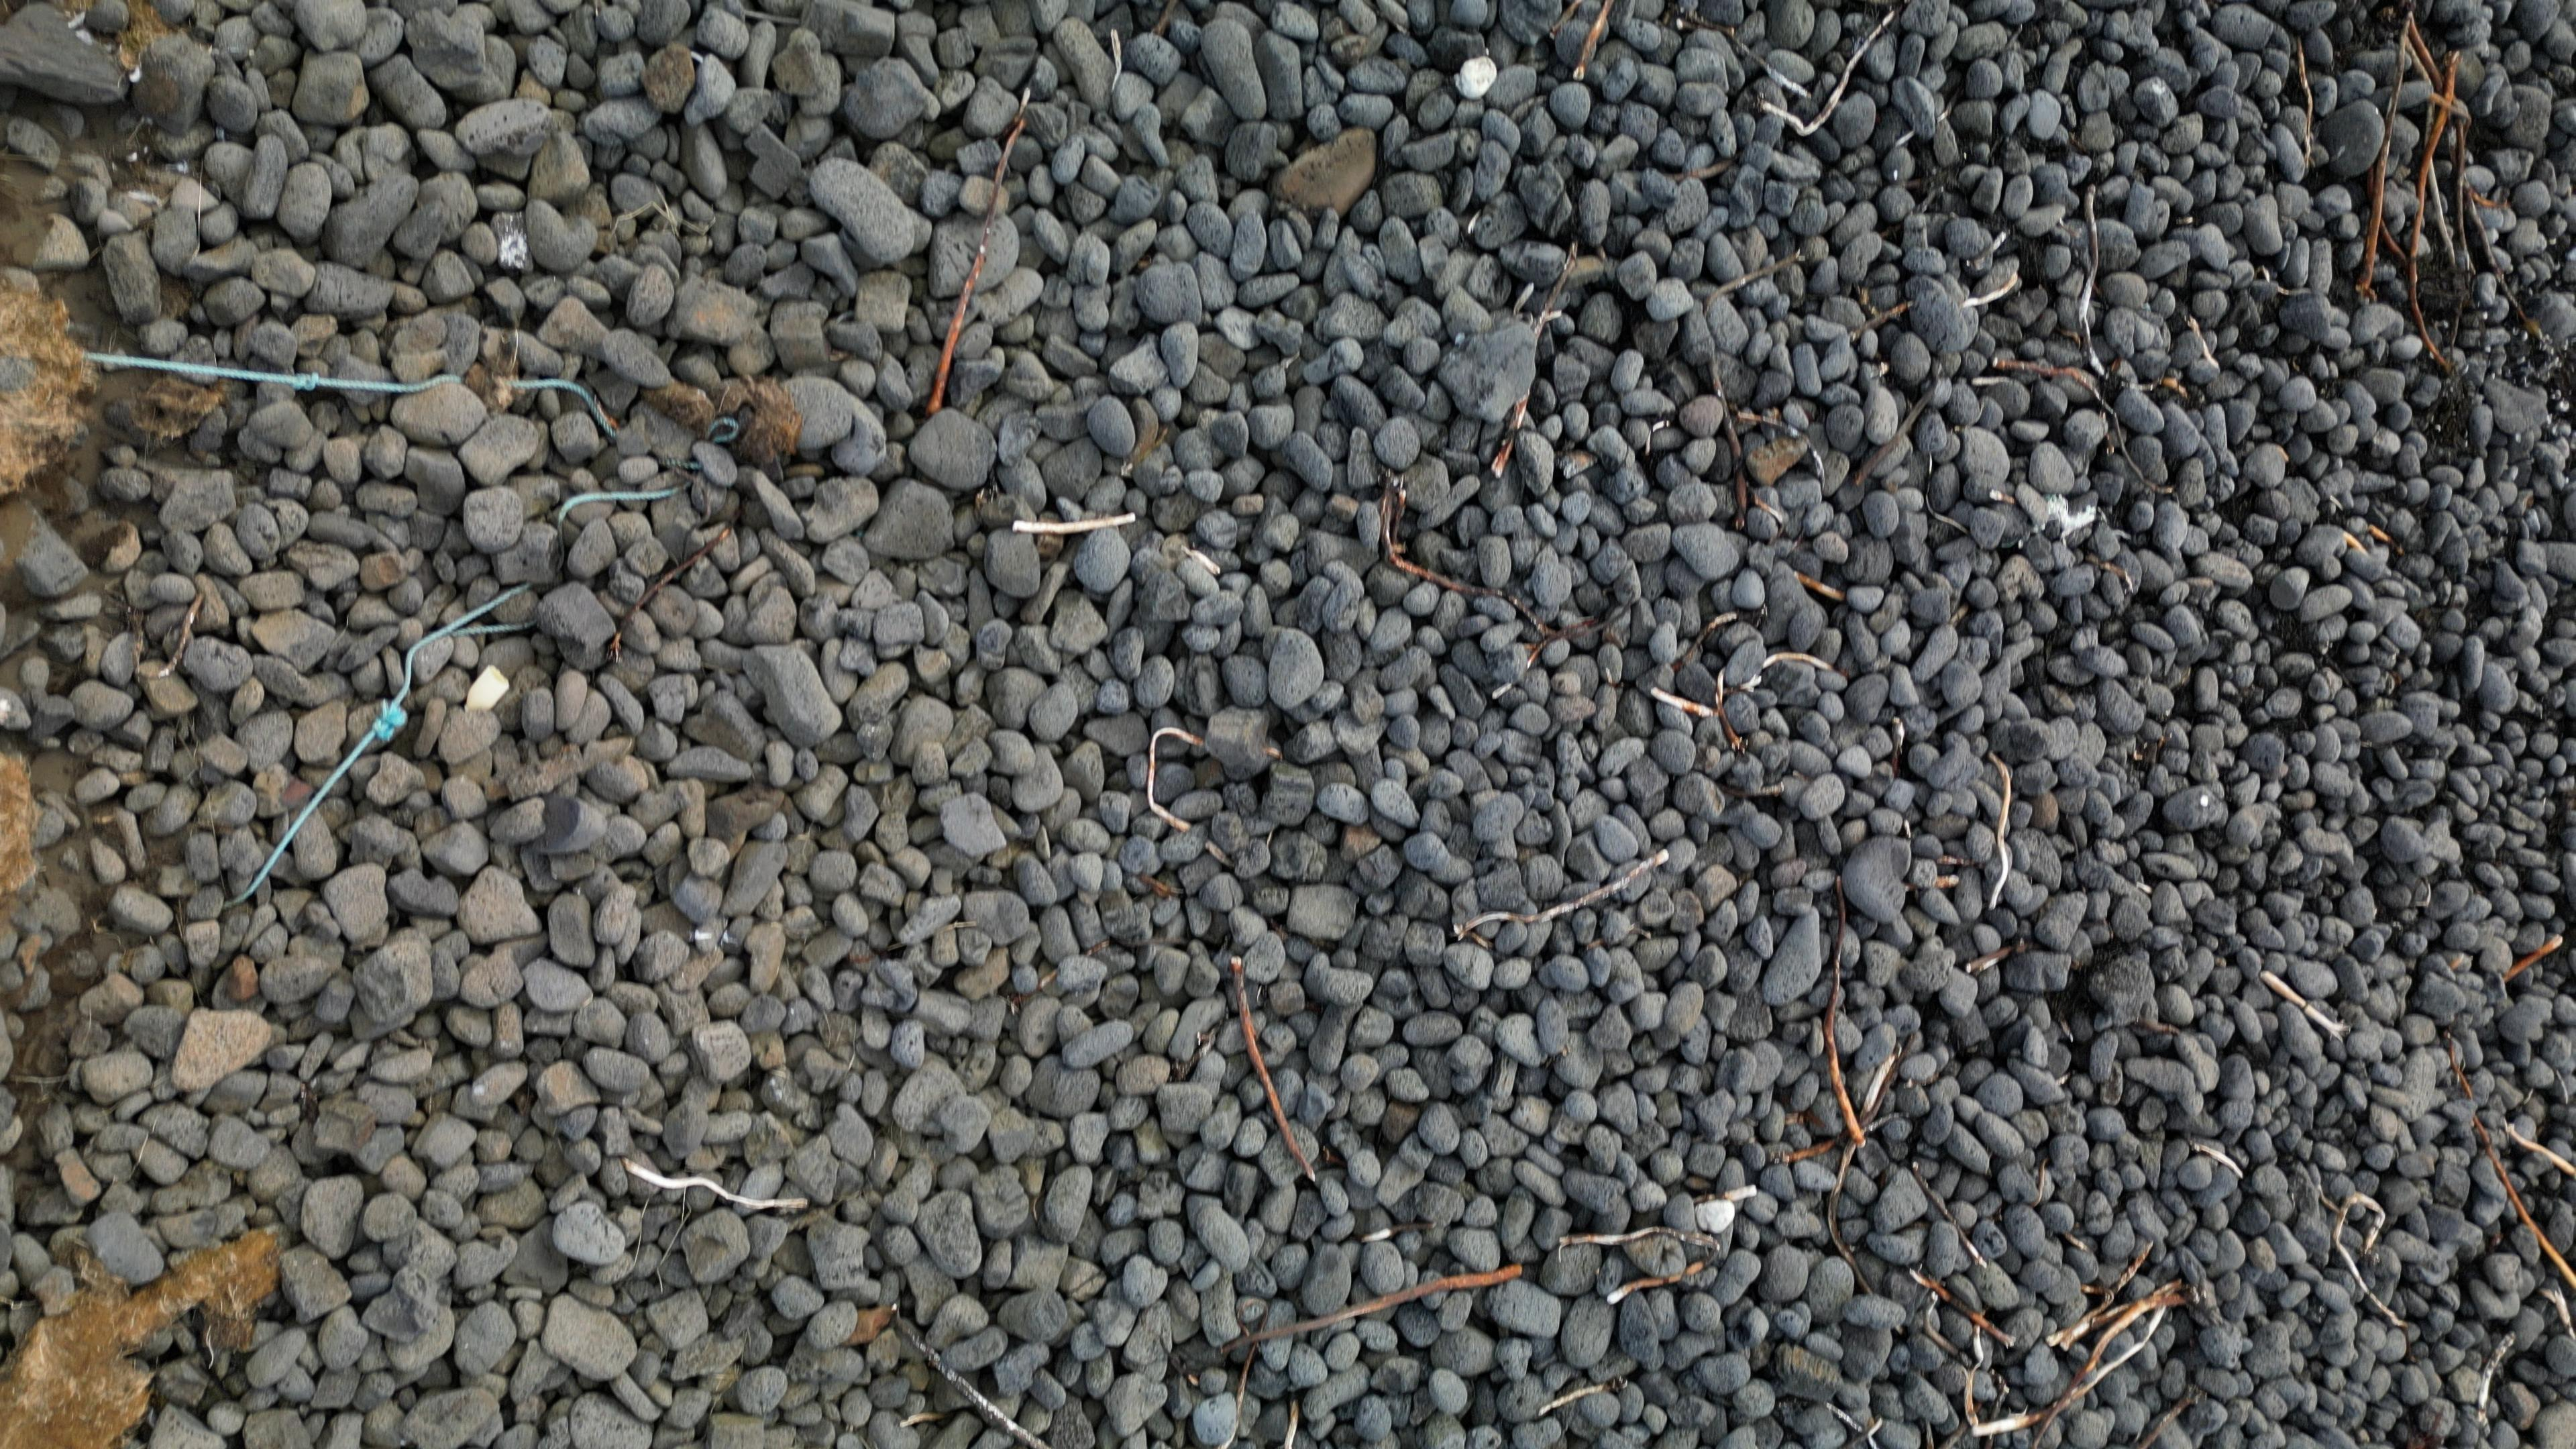trash: (252, 699, 402, 885), (86, 352, 443, 402), (523, 377, 614, 433), (563, 478, 684, 513), (443, 589, 533, 634), (659, 382, 710, 408), (704, 417, 739, 443), (231, 885, 252, 900)
